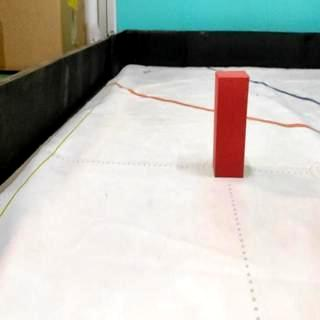redbox: (212, 70, 250, 178)
